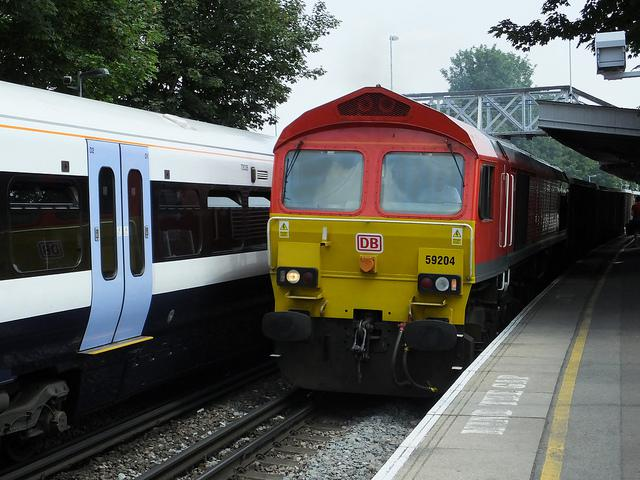Train: (265, 89, 607, 402), (2, 83, 274, 455)
